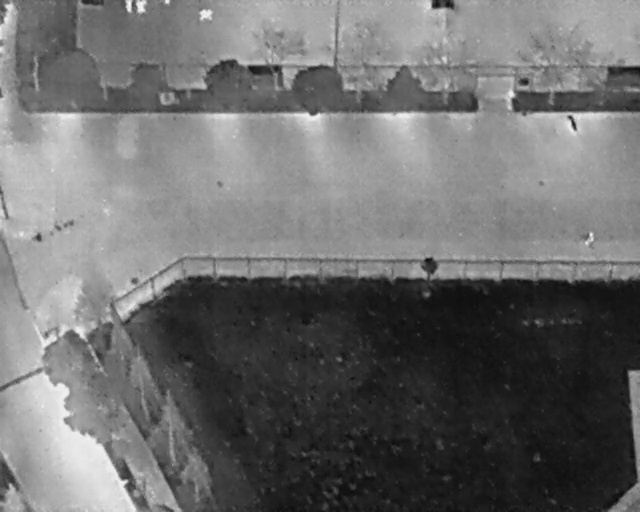Person: (581, 228, 596, 248), (198, 9, 213, 22), (137, 0, 148, 14), (124, 0, 134, 13), (163, 0, 170, 5)
